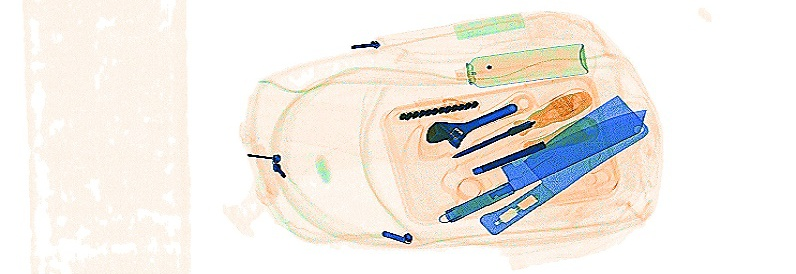knife: (476, 92, 648, 236), (436, 106, 646, 223)
pressure: (452, 40, 589, 88)
